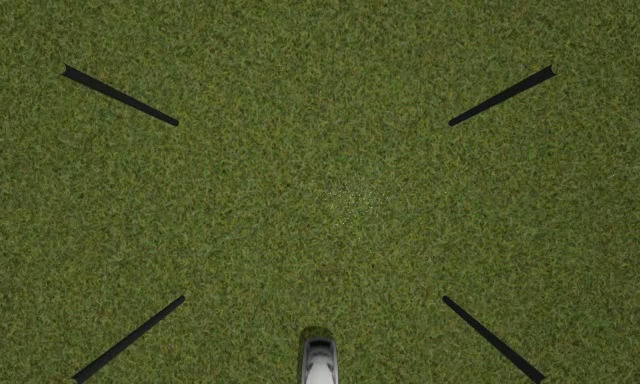Car: (302, 339, 339, 384)
